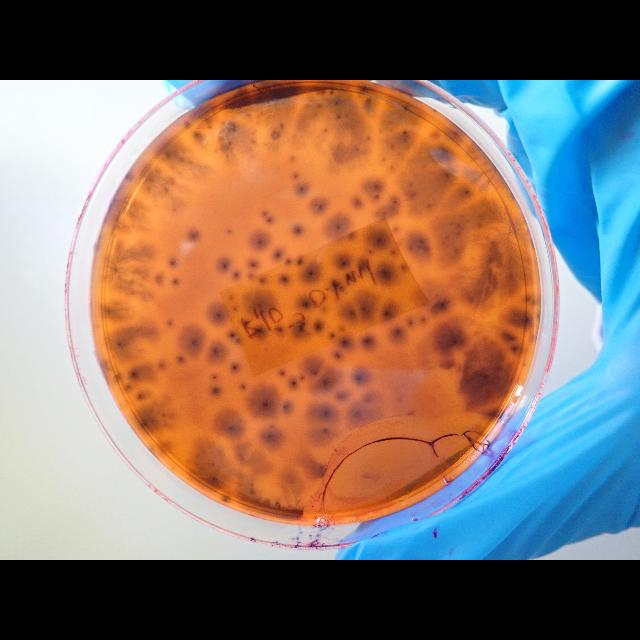colony: (247, 382, 283, 422), (212, 408, 248, 440), (436, 322, 470, 354), (242, 289, 280, 315), (178, 326, 208, 358), (134, 406, 158, 434), (207, 302, 230, 328), (375, 261, 399, 285), (326, 213, 348, 239), (205, 341, 228, 364), (427, 294, 451, 314), (331, 250, 353, 270), (369, 228, 389, 250), (356, 296, 374, 320), (349, 368, 369, 388), (250, 230, 270, 250), (300, 265, 322, 283), (316, 403, 336, 422), (349, 404, 367, 422), (308, 362, 324, 382), (358, 333, 378, 349), (378, 304, 397, 320), (262, 428, 280, 444), (216, 256, 232, 274), (389, 324, 406, 340), (293, 180, 309, 197), (186, 228, 202, 244), (332, 390, 352, 402), (278, 399, 292, 415), (112, 336, 126, 352), (367, 179, 383, 193), (351, 194, 365, 210), (208, 383, 222, 397), (318, 375, 332, 389), (126, 366, 140, 380), (254, 324, 268, 338), (298, 297, 312, 311), (338, 336, 352, 350), (175, 352, 188, 366), (278, 272, 290, 286), (191, 128, 203, 142), (229, 361, 241, 374), (292, 222, 304, 235), (347, 306, 358, 320), (312, 320, 324, 332), (272, 249, 284, 261), (370, 190, 382, 202), (462, 184, 472, 198), (288, 376, 298, 389), (168, 257, 178, 269), (297, 322, 307, 334), (406, 316, 416, 328), (390, 223, 400, 235), (135, 391, 145, 402), (390, 196, 400, 207), (510, 342, 520, 353), (321, 426, 331, 436), (248, 259, 258, 269), (257, 275, 267, 285), (295, 256, 305, 266), (400, 127, 410, 137), (359, 84, 369, 94), (333, 351, 342, 362), (171, 276, 179, 286), (210, 372, 218, 382), (278, 368, 286, 378), (125, 382, 133, 392), (232, 270, 240, 280), (274, 325, 284, 333), (284, 256, 292, 266), (292, 170, 300, 180), (183, 119, 191, 129), (124, 171, 132, 181), (333, 99, 341, 108), (240, 382, 247, 392), (228, 293, 236, 301), (166, 320, 174, 328), (222, 495, 230, 503), (228, 331, 236, 339), (265, 216, 273, 224), (335, 112, 343, 120), (328, 88, 336, 96), (260, 210, 268, 217), (232, 304, 238, 312), (300, 373, 306, 381), (235, 338, 243, 344), (330, 331, 336, 339), (225, 228, 232, 234), (244, 320, 248, 324)
